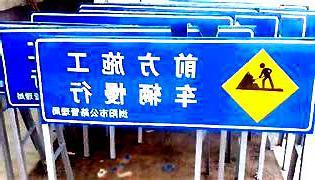sign: (34, 37, 315, 133)
